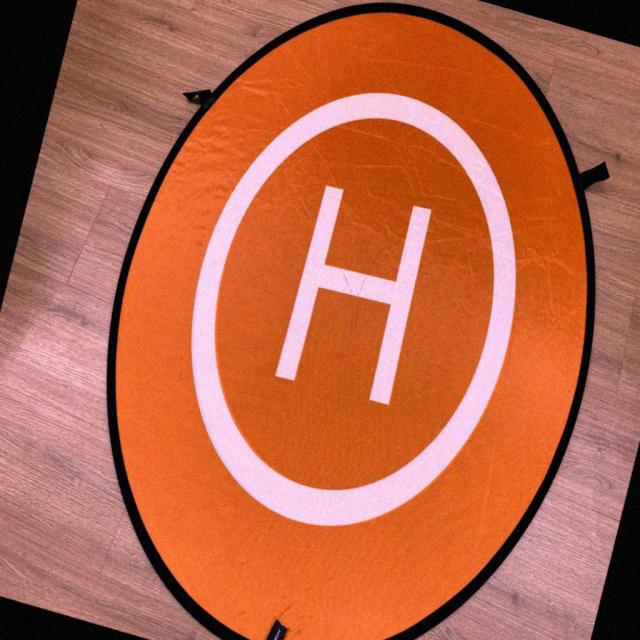helipad: (185, 85, 521, 533)
